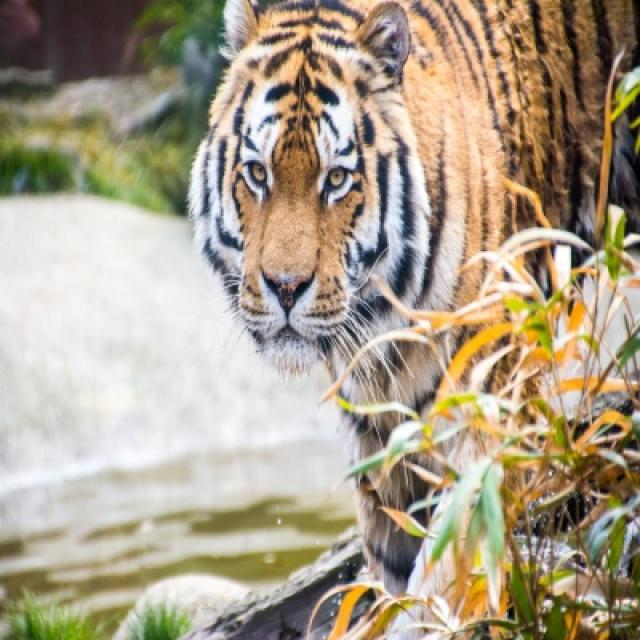Tiger: (193, 0, 638, 544)
